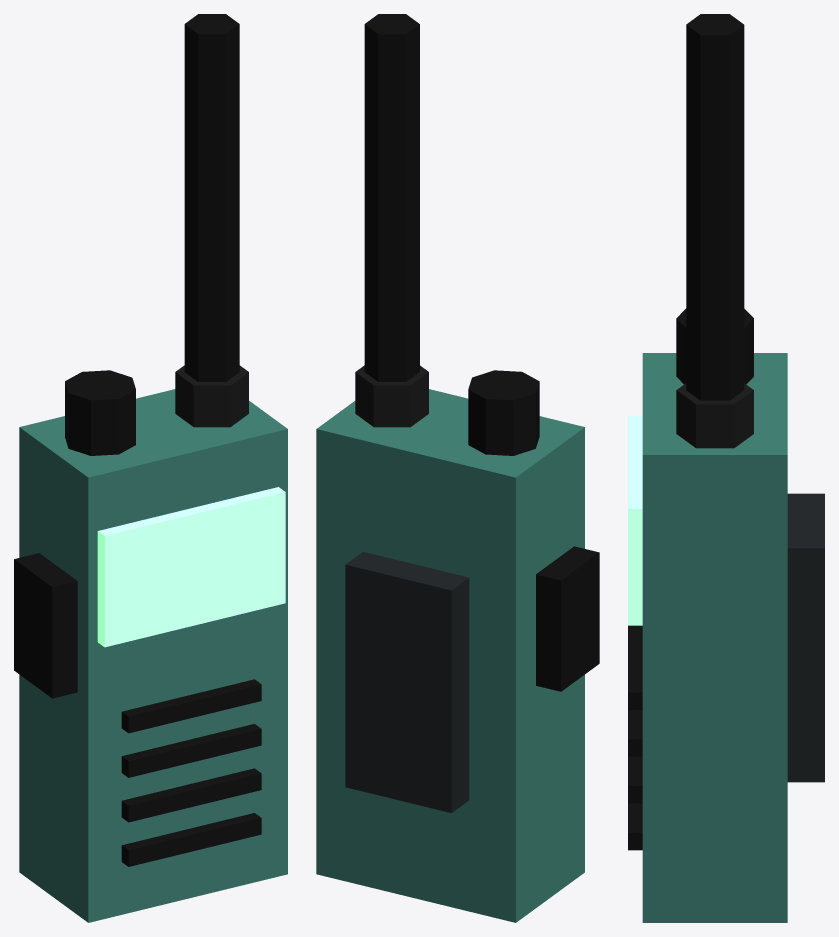
File: tool_radio.fbx
3 renders of one model, left to right at view 1: azimuth 30°, elevation 25°; view 2: azimuth 150°, elevation 25°; view 3: azimuth 270°, elevation 25°, orthographic. The views are drawn at different scales.
Visible parts, largest first — view 1: tool_radio; view 2: tool_radio; view 3: tool_radio.
Boxes of the visible parts, x1,y1,x2,y2 form: tool_radio: [14, 14, 287, 922]; tool_radio: [316, 14, 599, 922]; tool_radio: [628, 14, 824, 922].
Size of the model in its own units: 0.0845 by 0.3 by 0.061.
1 material, 1 textured.
